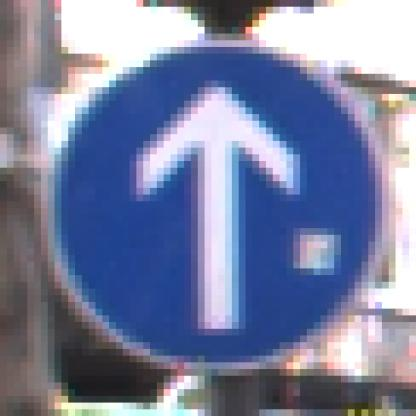AheadOnly: (35, 35, 383, 384)
